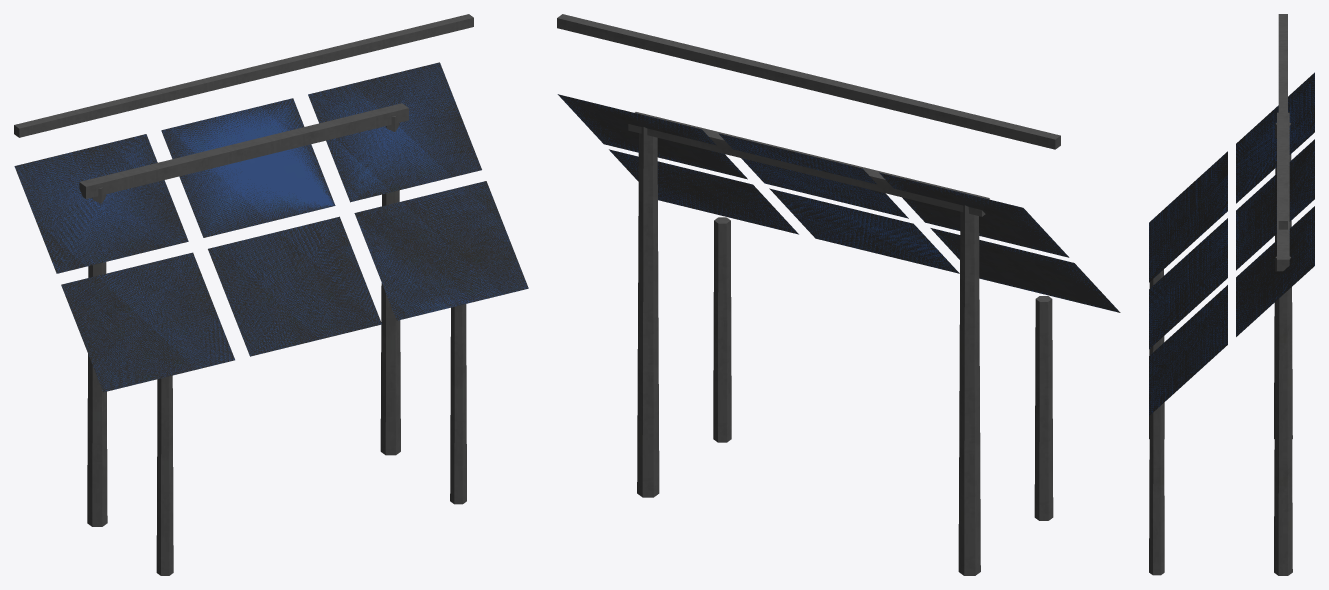
Rendered from solar_array_01.glb.
The picture shows the model from 3 angles, left to right: view 1: azimuth 30°, elevation 25°; view 2: azimuth 150°, elevation 25°; view 3: azimuth 270°, elevation 25°; orthographic projection. The views are drawn at different scales.
Parts seen in each view (by area): view 1: solar_array_01; view 2: solar_array_01; view 3: solar_array_01.
Part boxes in pixels (x1,y1,x2,y2): solar_array_01: (14, 14, 528, 575); solar_array_01: (557, 14, 1120, 575); solar_array_01: (1149, 14, 1314, 575).
Bounding box in the file's own units: 3.1 × 2.71 × 1.05.
Materials: 3 (3 with a texture image).
